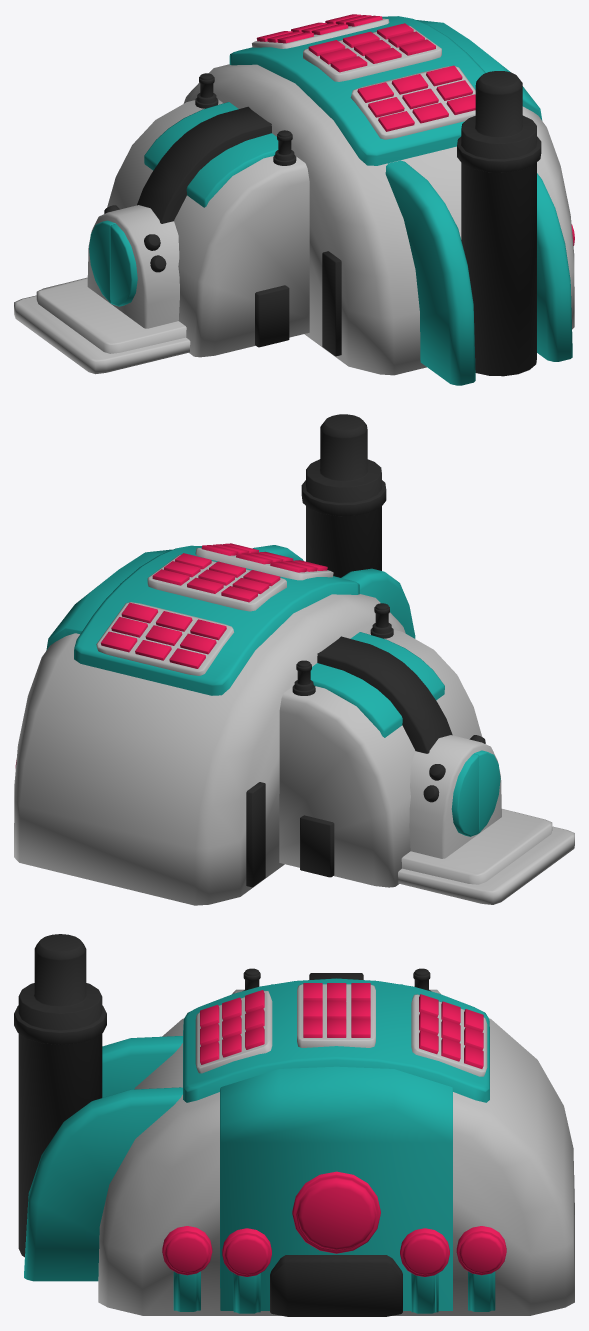
3 views of the same model, one above another, from view 1: azimuth 30°, elevation 25°; view 2: azimuth 150°, elevation 25°; view 3: azimuth 270°, elevation 25° (orthographic). The views are drawn at different scales.
Parts seen in each view (by area): view 1: Home_colonists_В.004; view 2: Home_colonists_В.004; view 3: Home_colonists_В.004.
Part boxes in pixels (left/top/right/bottom): Home_colonists_В.004: left=14, top=14, right=574, bottom=385; Home_colonists_В.004: left=14, top=414, right=574, bottom=905; Home_colonists_В.004: left=14, top=934, right=574, bottom=1316.
Size of the model in its own units: 17.07 by 10.47 by 16.99.
